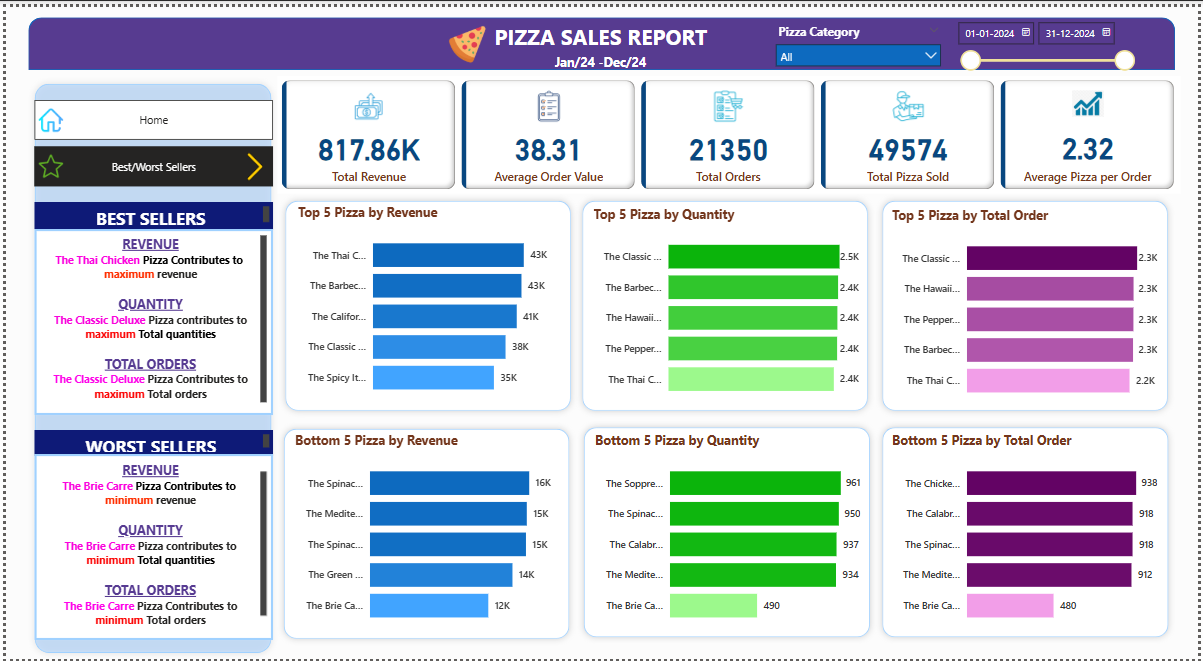

What the dashboard file says about the page in this screenshot:
{"tool":"powerbi","page":{"name":"Best/Worst Sellers","canvas":[1500,820],"ordinal":1},"visuals":[{"type":"cardVisual","fields":{"Data":["pizza_report pizza_orders.Total Revenue","pizza_report pizza_orders.Average Order Value","pizza_report pizza_orders.Total Orders","pizza_report pizza_orders.Total Pizza Sold","pizza_report pizza_orders.Average Pizza per Order"]},"box":[342.3,87.7,1136.2,147.7],"z":0},{"type":"shape","box":[28,14,1442,66],"z":1000},{"type":"textbox","box":[610,14,292,56],"z":2000},{"type":"textbox","box":[685.4,53.8,142.1,44.2],"z":3000},{"type":"image","box":[551.7,16.7,58.3,60],"z":4000},{"type":"shape","box":[342,522,375,280],"z":5000},{"type":"shape","box":[718.6,521.4,375.7,280],"z":6000},{"type":"shape","box":[28.3,88.3,313.3,731.7],"z":7000},{"type":"shape","box":[1094.3,521.4,375.7,280],"z":8000},{"type":"textbox","box":[36,246,300,34],"z":9000},{"type":"textbox","box":[36,280,300,234],"z":10000},{"type":"textbox","box":[35.9,531.2,300,31.8],"z":11000},{"type":"textbox","box":[35.9,562.9,300,234.1],"z":12000},{"type":"slicer","fields":{"Values":["pizza_report pizza_orders.order_date"]},"box":[1185.6,10,243.3,70],"z":13000},{"type":"slicer","fields":{"Values":["pizza_report pizza_orders.pizza_category"]},"box":[958.9,14.4,227,65.6],"z":14000},{"type":"shape","box":[343.3,236.7,375,280],"z":15000},{"type":"shape","box":[1095,236.7,375,280],"z":16000},{"type":"shape","box":[716.7,236.7,375,280],"z":17000},{"type":"barChart","title":"Top 5 Pizza by Revenue","fields":{"Category":["pizza_report pizza_orders.pizza_name"],"Y":["pizza_report pizza_orders.Total Revenue"]},"box":[361.7,246.7,343.3,255],"z":18000},{"type":"barChart","title":"Bottom 5 Pizza by Revenue","fields":{"Category":["pizza_report pizza_orders.pizza_name"],"Y":["pizza_report pizza_orders.Total Revenue"]},"box":[358.3,533.3,343.3,255],"z":19000},{"type":"barChart","title":"Top 5 Pizza by Quantity","fields":{"Category":["pizza_report pizza_orders.pizza_name"],"Y":["pizza_report pizza_orders.Total Pizza Sold"]},"box":[733.3,248.3,343.3,255],"z":20000},{"type":"barChart","title":"Bottom 5 Pizza by Quantity","fields":{"Category":["pizza_report pizza_orders.pizza_name"],"Y":["pizza_report pizza_orders.Total Pizza Sold"]},"box":[735,533.3,343.3,255],"z":21000},{"type":"barChart","title":"Top 5 Pizza by Total Order","fields":{"Category":["pizza_report pizza_orders.pizza_name"],"Y":["pizza_report pizza_orders.Total Orders"]},"box":[1110,250,343.3,255],"z":22000},{"type":"barChart","title":"Bottom 5 Pizza by Total Order","fields":{"Category":["pizza_report pizza_orders.pizza_name"],"Y":["pizza_report pizza_orders.Total Orders"]},"box":[1110,533.3,343.3,255],"z":23000},{"type":"pageNavigator","box":[35,175.8,300,50],"z":24000},{"type":"pageNavigator","box":[35,117.5,300,50],"z":25000},{"type":"image","box":[290,175.8,45,50],"z":26000},{"type":"image","box":[35.8,117.5,40.8,50],"z":27000},{"type":"image","box":[35.8,175.8,40.8,49.2],"z":28000}]}

Visuals, with their boxes in screenshot pixels (x1, y1, x2, y2), scaled from the page's 1500x820 canvas onto the 1203x661 screenshot:
cardVisual - pizza_report pizza_orders.Total Revenue x pizza_report pizza_orders.Average Order Value: select_region(275, 71, 1186, 190)
shape: select_region(22, 11, 1179, 64)
textbox: select_region(489, 11, 723, 56)
textbox: select_region(550, 43, 664, 79)
image: select_region(442, 13, 489, 62)
shape: select_region(274, 421, 575, 646)
shape: select_region(576, 420, 878, 646)
shape: select_region(23, 71, 274, 660)
shape: select_region(878, 420, 1179, 646)
textbox: select_region(29, 198, 269, 226)
textbox: select_region(29, 226, 269, 414)
textbox: select_region(29, 428, 269, 454)
textbox: select_region(29, 454, 269, 642)
slicer - pizza_report pizza_orders.order_date: select_region(951, 8, 1146, 64)
slicer - pizza_report pizza_orders.pizza_category: select_region(769, 12, 951, 64)
shape: select_region(275, 191, 576, 417)
shape: select_region(878, 191, 1179, 417)
shape: select_region(575, 191, 876, 417)
"Top 5 Pizza by Revenue" barChart: select_region(290, 199, 565, 404)
"Bottom 5 Pizza by Revenue" barChart: select_region(287, 430, 563, 635)
"Top 5 Pizza by Quantity" barChart: select_region(588, 200, 863, 406)
"Bottom 5 Pizza by Quantity" barChart: select_region(589, 430, 865, 635)
"Top 5 Pizza by Total Order" barChart: select_region(890, 202, 1166, 407)
"Bottom 5 Pizza by Total Order" barChart: select_region(890, 430, 1166, 635)
pageNavigator: select_region(28, 142, 269, 182)
pageNavigator: select_region(28, 95, 269, 135)
image: select_region(233, 142, 269, 182)
image: select_region(29, 95, 61, 135)
image: select_region(29, 142, 61, 181)
